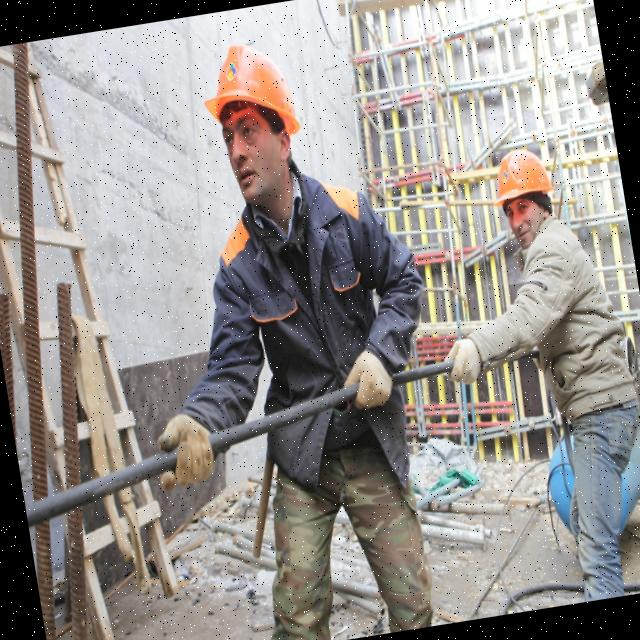Helmet: (199, 38, 304, 145), (484, 144, 557, 210)
NoJacket: (226, 176, 403, 472), (517, 218, 628, 428)
